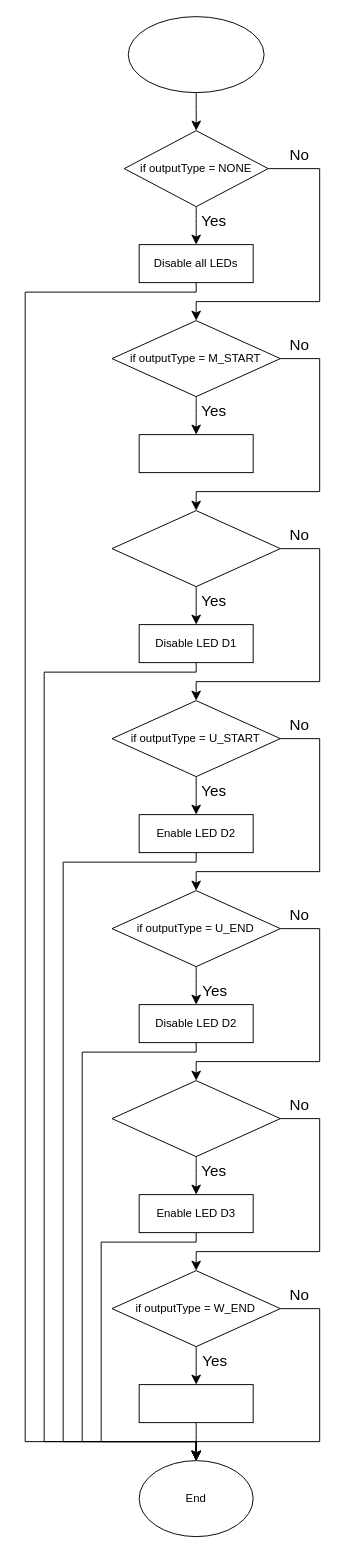
The diagram is 346 pixels wide and 1553 high, and some of its shapes have lost their labels. Each missing label, with the centre of its shape:
"Disable LED D3" belongs at (195,1403).
"Enable LED D1" belongs at (195,453).
"if outputType = M_END" belongs at (195,548).
"if outputType = W_START" belongs at (195,1118).
"setOutput(outputType)" belongs at (195,54).
